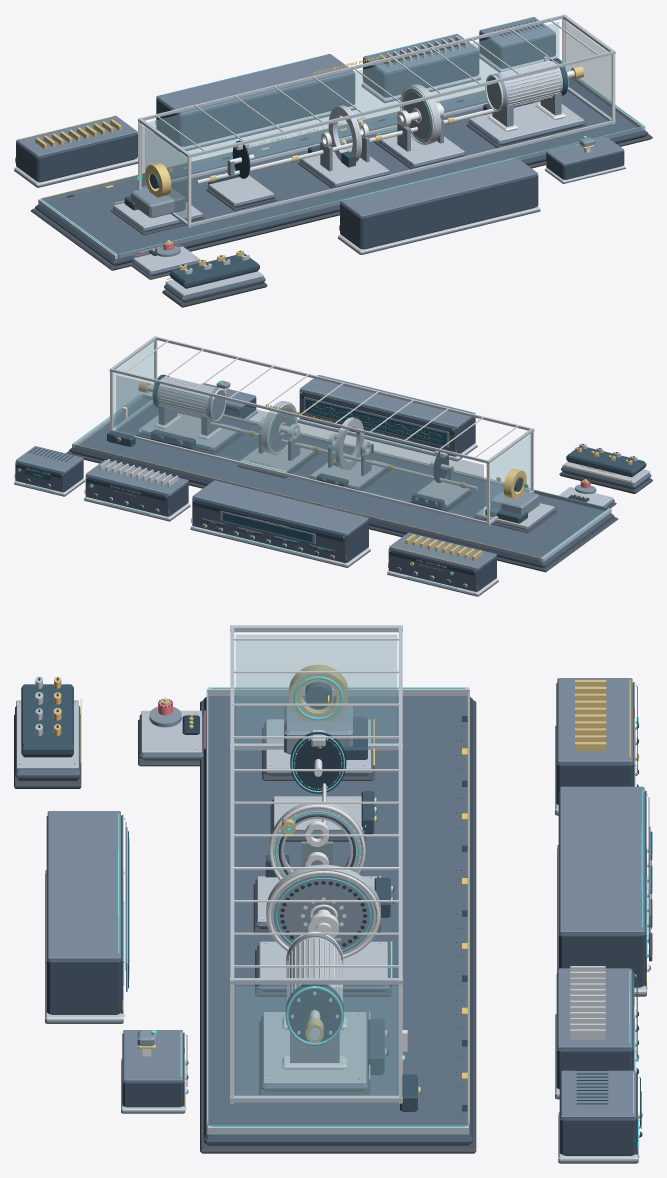
Rendered from Level52_Fitted_Assembly.fbx.
The picture shows the model from 3 angles, top to bottom: view 1: azimuth 30°, elevation 25°; view 2: azimuth 150°, elevation 25°; view 3: azimuth 270°, elevation 25°; orthographic projection. The views are drawn at different scales.
Parts seen in each view (by area): view 1: L52_Guard_Door__glassblue, L52_Frame_Static__darksteel, L52_Guard_Static__nickel, L52_Monitor_Static__graphite, L52_Controller_Static__graphite, L52_Guard_Static__glassblue, L52_Monitor_Static__mid_steel, L52_Controller_Static__mid_steel, L52_Motor_Static__nickel, L52_BalanceDriver_Static__graphite, L52_Frame_Static__gunmetal, L52_MotorDriver_Static__graphite (+38 smaller); view 2: L52_Guard_Door__glassblue, L52_Frame_Static__darksteel, L52_Guard_Static__nickel, L52_Guard_Static__glassblue, L52_Controller_Static__mid_steel, L52_Controller_Static__deep_steel, L52_Monitor_Static__mid_steel, L52_Motor_Static__nickel, L52_Frame_Static__gunmetal, L52_Guard_Static__mirror, L52_Frame_Static__graphite, L52_Monitor_Static__screenback (+47 smaller); view 3: L52_Frame_Static__darksteel, L52_Guard_Static__glassblue, L52_Controller_Static__mid_steel, L52_Monitor_Static__mid_steel, L52_Guard_Static__nickel, L52_Guard_Static__mirror, L52_Frame_Static__graphite, L52_Frame_Static__rubber, L52_Motor_Static__nickel, L52_Monitor_Static__graphite, L52_BalanceDriver_Static__mid_steel, L52_Rotor_Disc__gunmetal (+35 smaller).
Part boxes in pixels (x1=…): L52_Guard_Door__glassblue: x1=145, y1=22, x2=558, y2=183; L52_Frame_Static__darksteel: x1=42, y1=78, x2=645, y2=259; L52_Guard_Static__nickel: x1=138, y1=14, x2=615, y2=227; L52_Monitor_Static__graphite: x1=340, y1=174, x2=538, y2=249; L52_Controller_Static__graphite: x1=156, y1=73, x2=355, y2=146; L52_Guard_Static__glassblue: x1=141, y1=21, x2=611, y2=221; L52_Monitor_Static__mid_steel: x1=340, y1=157, x2=537, y2=216; L52_Controller_Static__mid_steel: x1=156, y1=54, x2=354, y2=114; L52_Motor_Static__nickel: x1=470, y1=60, x2=584, y2=141; L52_BalanceDriver_Static__graphite: x1=16, y1=133, x2=137, y2=182; L52_Frame_Static__gunmetal: x1=41, y1=90, x2=642, y2=258; L52_MotorDriver_Static__graphite: x1=363, y1=51, x2=479, y2=97; L52_Guard_Door__glassblue: x1=116, y1=375, x2=483, y2=519; L52_Frame_Static__darksteel: x1=72, y1=398, x2=604, y2=562; L52_Guard_Static__nickel: x1=109, y1=336, x2=534, y2=525; L52_Guard_Static__glassblue: x1=113, y1=342, x2=531, y2=520; L52_Controller_Static__mid_steel: x1=192, y1=480, x2=368, y2=537; L52_Controller_Static__deep_steel: x1=192, y1=498, x2=346, y2=563; L52_Monitor_Static__mid_steel: x1=300, y1=375, x2=475, y2=427; L52_Motor_Static__nickel: x1=138, y1=376, x2=239, y2=448; L52_Frame_Static__gunmetal: x1=74, y1=394, x2=608, y2=561; L52_Guard_Static__mirror: x1=110, y1=340, x2=533, y2=525; L52_Frame_Static__graphite: x1=69, y1=448, x2=614, y2=567; L52_Monitor_Static__screenback: x1=305, y1=399, x2=446, y2=446; L52_Frame_Static__darksteel: x1=206, y1=696, x2=469, y2=1134; L52_Guard_Static__glassblue: x1=236, y1=634, x2=396, y2=1095; L52_Controller_Static__mid_steel: x1=559, y1=786, x2=644, y2=932; L52_Monitor_Static__mid_steel: x1=47, y1=811, x2=120, y2=959; L52_Guard_Static__nickel: x1=230, y1=625, x2=402, y2=1102; L52_Guard_Static__mirror: x1=230, y1=638, x2=402, y2=1103; L52_Frame_Static__graphite: x1=203, y1=697, x2=472, y2=1145; L52_Frame_Static__rubber: x1=200, y1=700, x2=476, y2=1153; L52_Motor_Static__nickel: x1=263, y1=937, x2=366, y2=1083; L52_Monitor_Static__graphite: x1=46, y1=816, x2=121, y2=1014; L52_BalanceDriver_Static__mid_steel: x1=557, y1=678, x2=636, y2=762; L52_Rotor_Disc__gunmetal: x1=273, y1=875, x2=373, y2=952.
Bounding box in the file's own units: 193 × 30.8 × 113.
